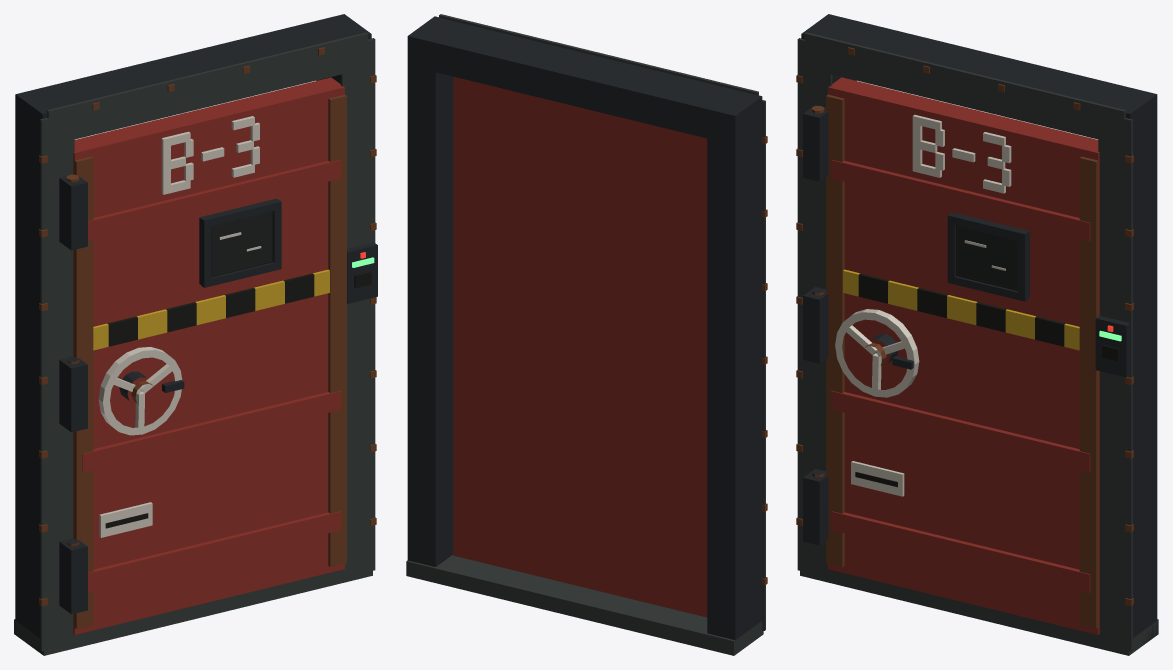
The model's file is door_b3.glb.
3 renders of one model, left to right at view 1: azimuth 30°, elevation 25°; view 2: azimuth 150°, elevation 25°; view 3: azimuth 330°, elevation 25°, orthographic.
Visible parts, largest first — view 1: door_b3; view 2: door_b3; view 3: door_b3.
Boxes of the visible parts, left/top/right/bottom form: door_b3: left=14, top=14, right=377, bottom=655; door_b3: left=406, top=14, right=767, bottom=655; door_b3: left=796, top=14, right=1158, bottom=655.
Size of the model in its own units: 1.43 by 2.21 by 0.33.
